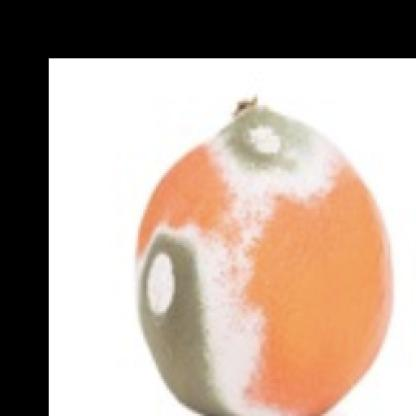rotten: (133, 88, 394, 416)
